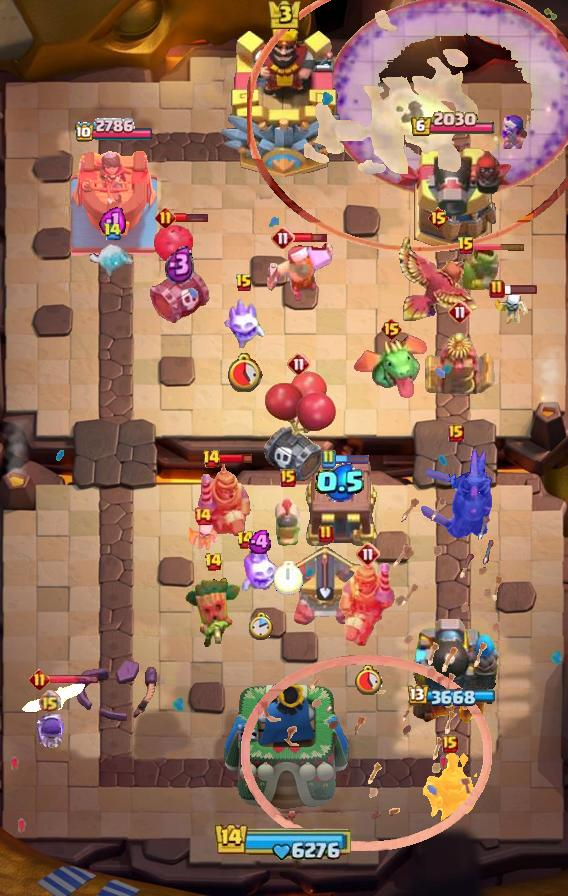barbarian: (20, 682, 86, 714)
bat: (88, 241, 136, 281)
bomb: (300, 455, 380, 549)
clock: (214, 821, 354, 861)
earthquake: (422, 752, 477, 824)
electro-spirit: (315, 462, 366, 501), (165, 245, 195, 284), (99, 205, 125, 236), (248, 530, 274, 554)
electro-wizard: (351, 332, 431, 400)
elixir: (225, 352, 263, 392), (273, 561, 302, 595), (353, 665, 383, 696), (250, 611, 275, 641)
emote: (47, 675, 99, 686), (293, 231, 328, 245), (472, 242, 526, 251), (218, 452, 254, 465), (502, 283, 538, 295), (334, 455, 370, 466), (174, 213, 209, 224)
executioner: (273, 491, 303, 547)
flying-machine: (458, 245, 504, 297)
goblin: (35, 714, 65, 754), (501, 115, 528, 149)
goblin-barrel: (184, 573, 242, 651)
goblin-brawler: (425, 329, 495, 397)
golden-knight: (397, 234, 479, 322)
golemite: (420, 447, 492, 541)
heal-spirit: (491, 293, 529, 327), (189, 521, 217, 553)
king-tower: (219, 23, 349, 181), (219, 678, 349, 826)
lava-pup: (280, 545, 372, 627)
mighty-miner: (264, 239, 334, 301)
mirror: (222, 296, 266, 350), (240, 544, 282, 594)
queen-tower: (71, 144, 157, 255)
ram-rider: (339, 558, 397, 650), (197, 464, 255, 540)
rocket: (326, 0, 568, 199)
royal-ghost: (248, 0, 568, 252)
royal-recruit-evolution: (260, 371, 338, 485), (147, 223, 213, 327)
selected: (410, 111, 496, 138), (74, 118, 154, 144), (408, 685, 498, 708)
skeleton-barrel: (240, 494, 504, 854)
text: (271, 226, 295, 250), (448, 300, 472, 324), (287, 352, 311, 376), (356, 542, 380, 566), (427, 206, 450, 230), (381, 317, 404, 341), (38, 690, 61, 714), (156, 208, 177, 229), (30, 670, 51, 691), (193, 506, 213, 526), (102, 223, 122, 242), (202, 449, 221, 469), (237, 530, 256, 550), (205, 552, 224, 572), (457, 236, 475, 256), (235, 273, 253, 293), (489, 279, 505, 299), (320, 449, 336, 469), (318, 524, 334, 544), (448, 424, 464, 442), (280, 469, 296, 487), (442, 735, 458, 753)
tower-bar: (392, 138, 514, 256), (406, 611, 500, 731)
